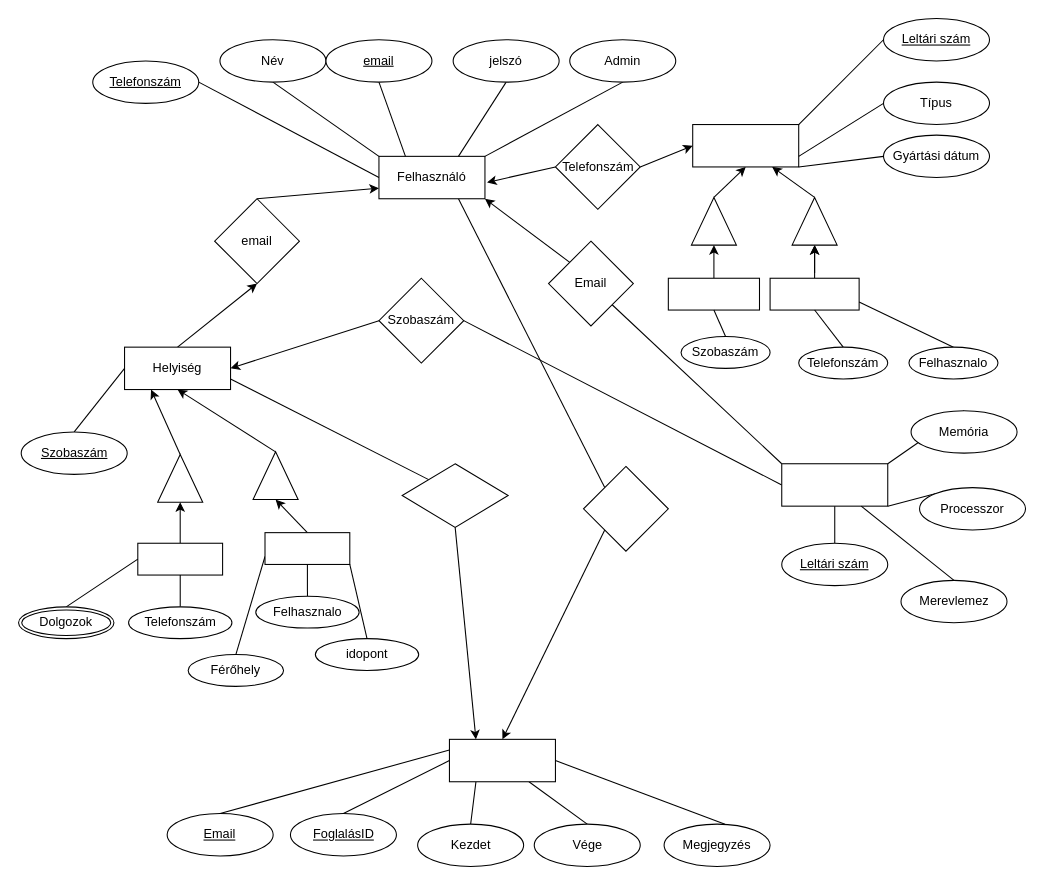
The diagram is 1044 pixels wide and 885 high, and some of its shapes have lost their labels. The shapes that lost their labels are listed below. From the top down, each one's box as (x1, y1, x2, y2) in pixels, then its label:
(692, 123, 799, 167): Telefon
(667, 277, 759, 310): Vezetékes
(769, 277, 859, 310): Mobil
(401, 463, 508, 527): Lefoglalt hely
(781, 463, 888, 506): Számítógép
(582, 465, 668, 551): Lefoglalja
(137, 542, 223, 575): Iroda
(264, 532, 350, 564): Targyalo / Konf terem
(448, 738, 555, 782): Foglalások
